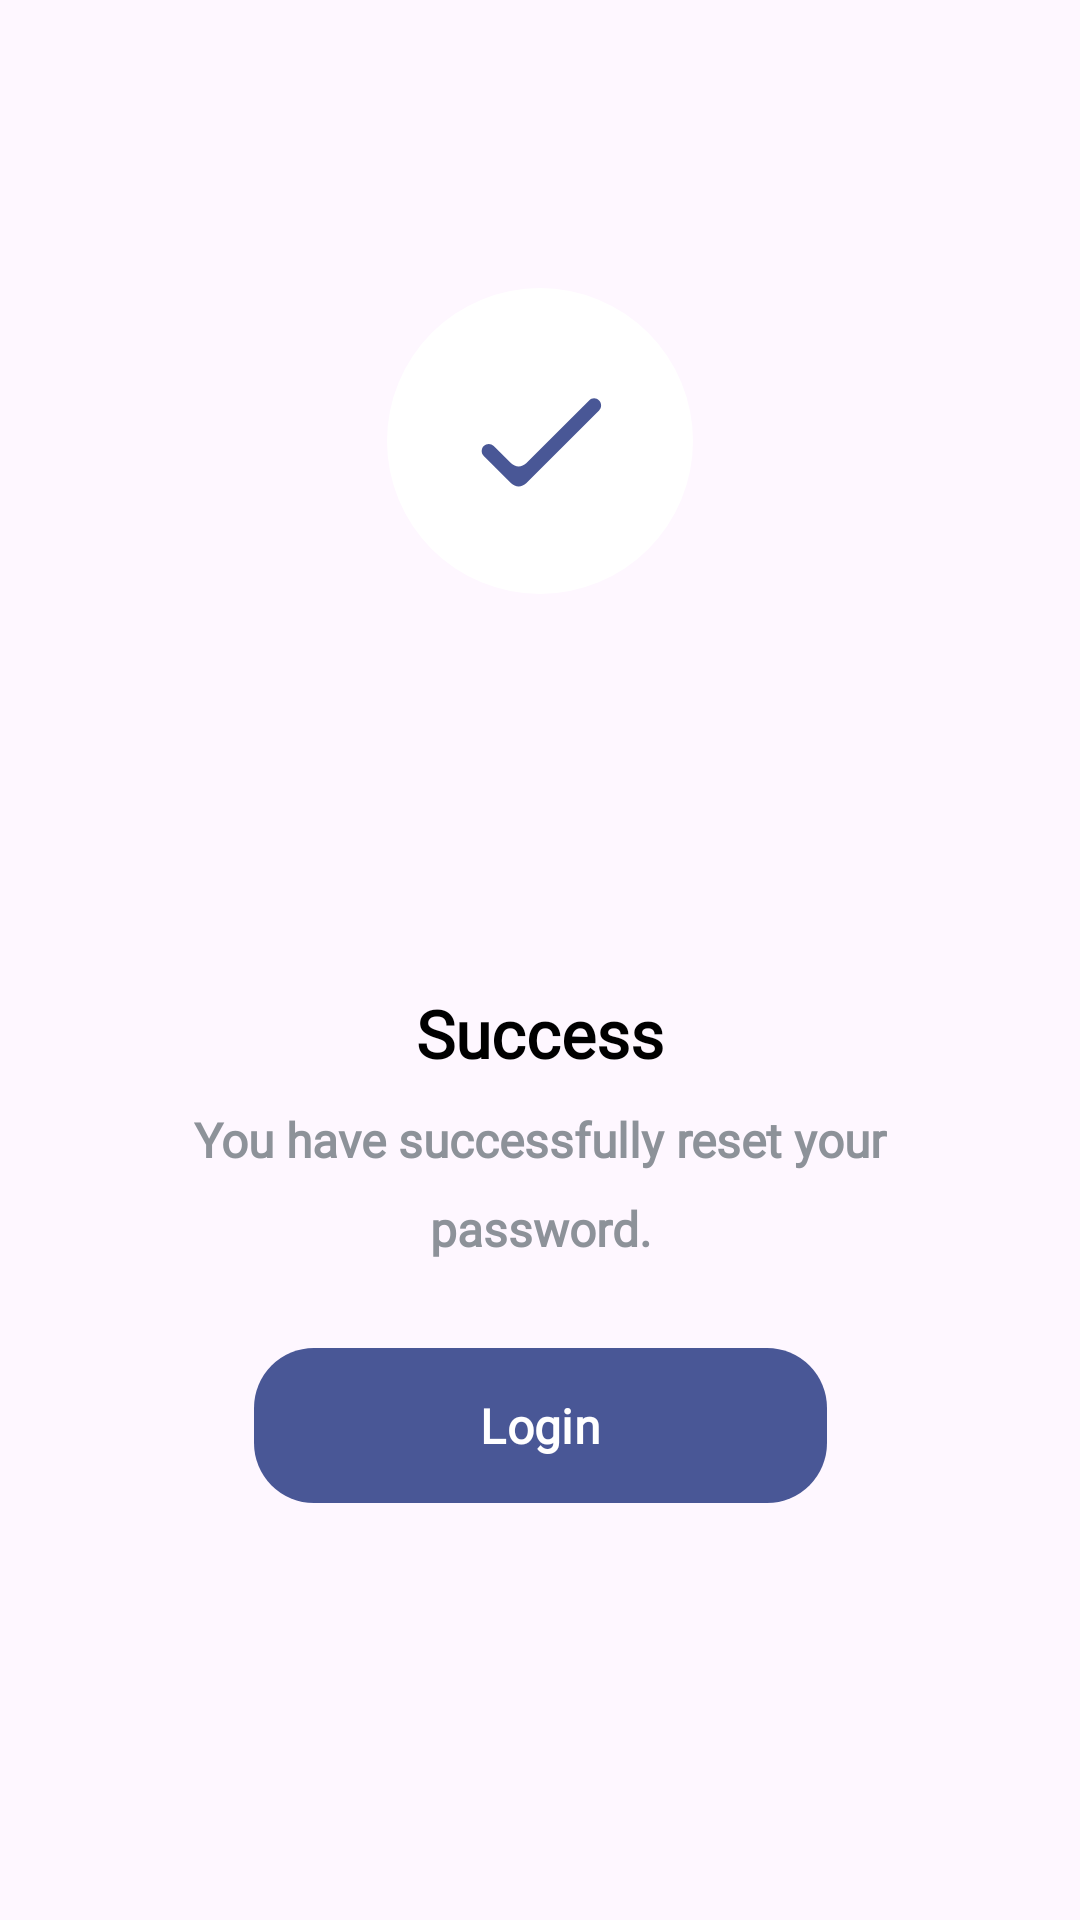

Named icons in this screenshot (1080 x 1920) and their bounding boxes, {"x1": x1, "y1": y1, "x2": x2, "y2": y2}:
done: {"x1": 481, "y1": 398, "x2": 601, "y2": 487}
